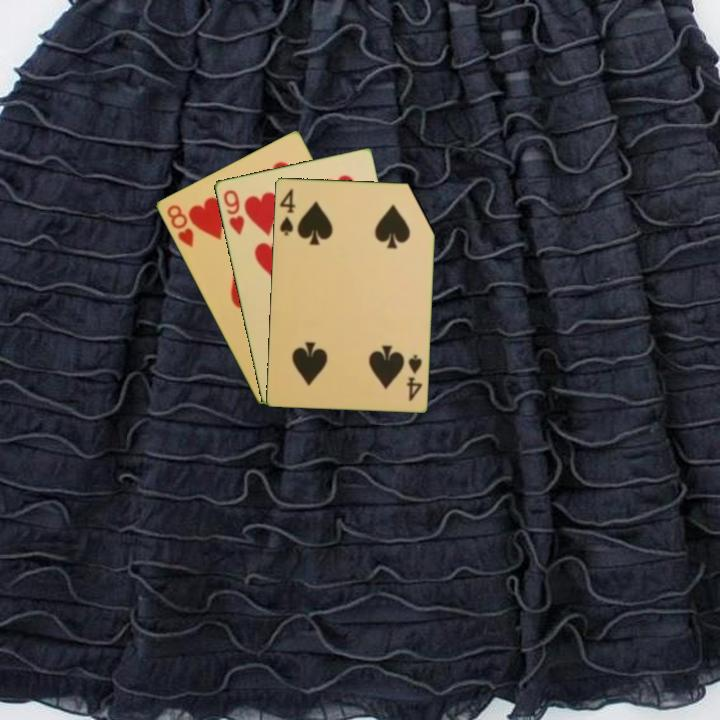4s: (402, 351, 425, 404), (276, 185, 298, 238)
8h: (163, 201, 196, 251)
9h: (220, 186, 247, 237)
